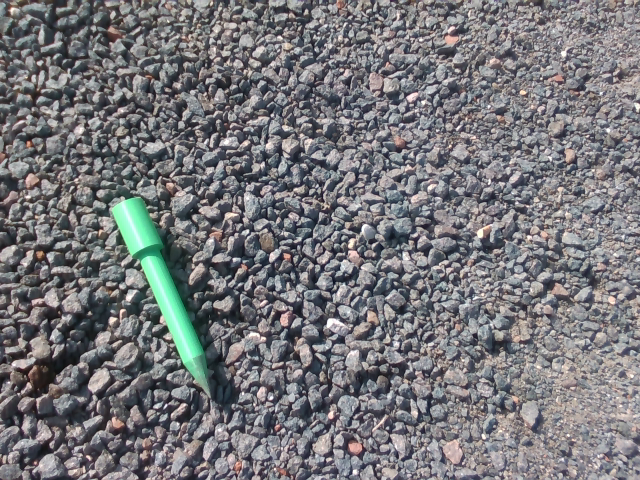Probe: (107, 192, 217, 403)
